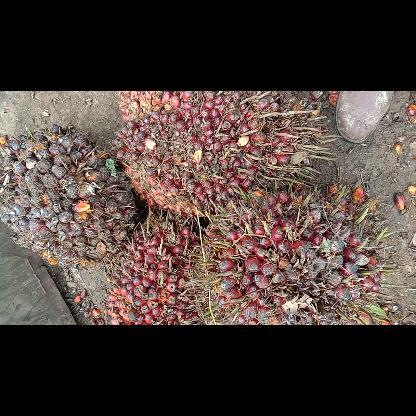Kurang masak: (0, 121, 138, 268)
TBS masak: (184, 184, 395, 324), (110, 91, 326, 221), (103, 209, 211, 323)
